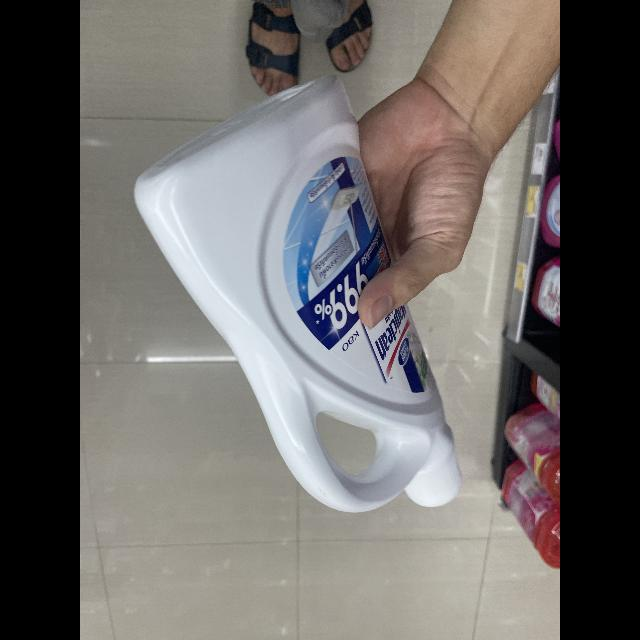chemical_plastic_gallon: (133, 68, 469, 520)
